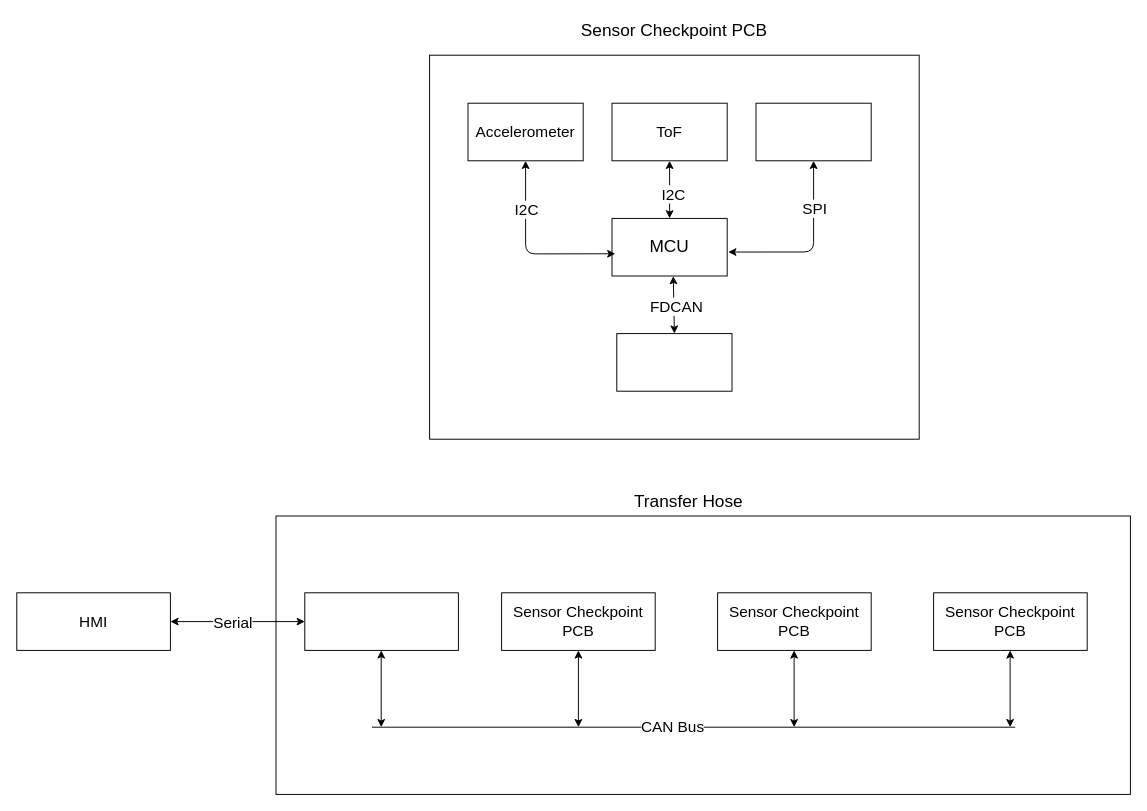
Some shapes in this 1147 by 811 pixel diagram are drawn without their labels. Here are the shapes that lost their labels. From the top down, the centre of each, then its label:
At point 813,131: "Inductive".
At point 674,362: "FDCAN Transceiver".
At point 381,621: "Main Board".
